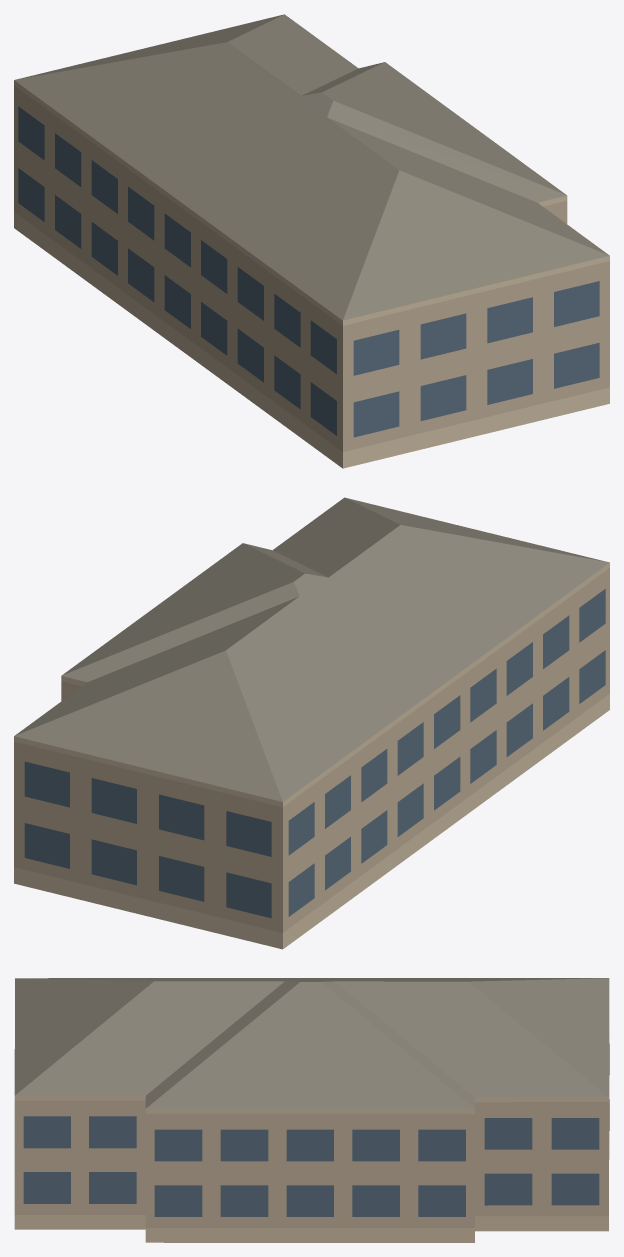
Rendered from dc-au-east-quad-building.glb.
3 views of the same model, one above another, from view 1: azimuth 30°, elevation 25°; view 2: azimuth 150°, elevation 25°; view 3: azimuth 270°, elevation 25° (orthographic). The views are drawn at different scales.
Visible parts, largest first — view 1: East Quad Building; view 2: East Quad Building; view 3: East Quad Building.
Part boxes in pixels (x1=…): East Quad Building: x1=14, y1=14, x2=609, y2=468; East Quad Building: x1=14, y1=497, x2=609, y2=949; East Quad Building: x1=14, y1=978, x2=609, y2=1242.
Size of the model in its own units: 18.97 by 13.15 by 36.33.
